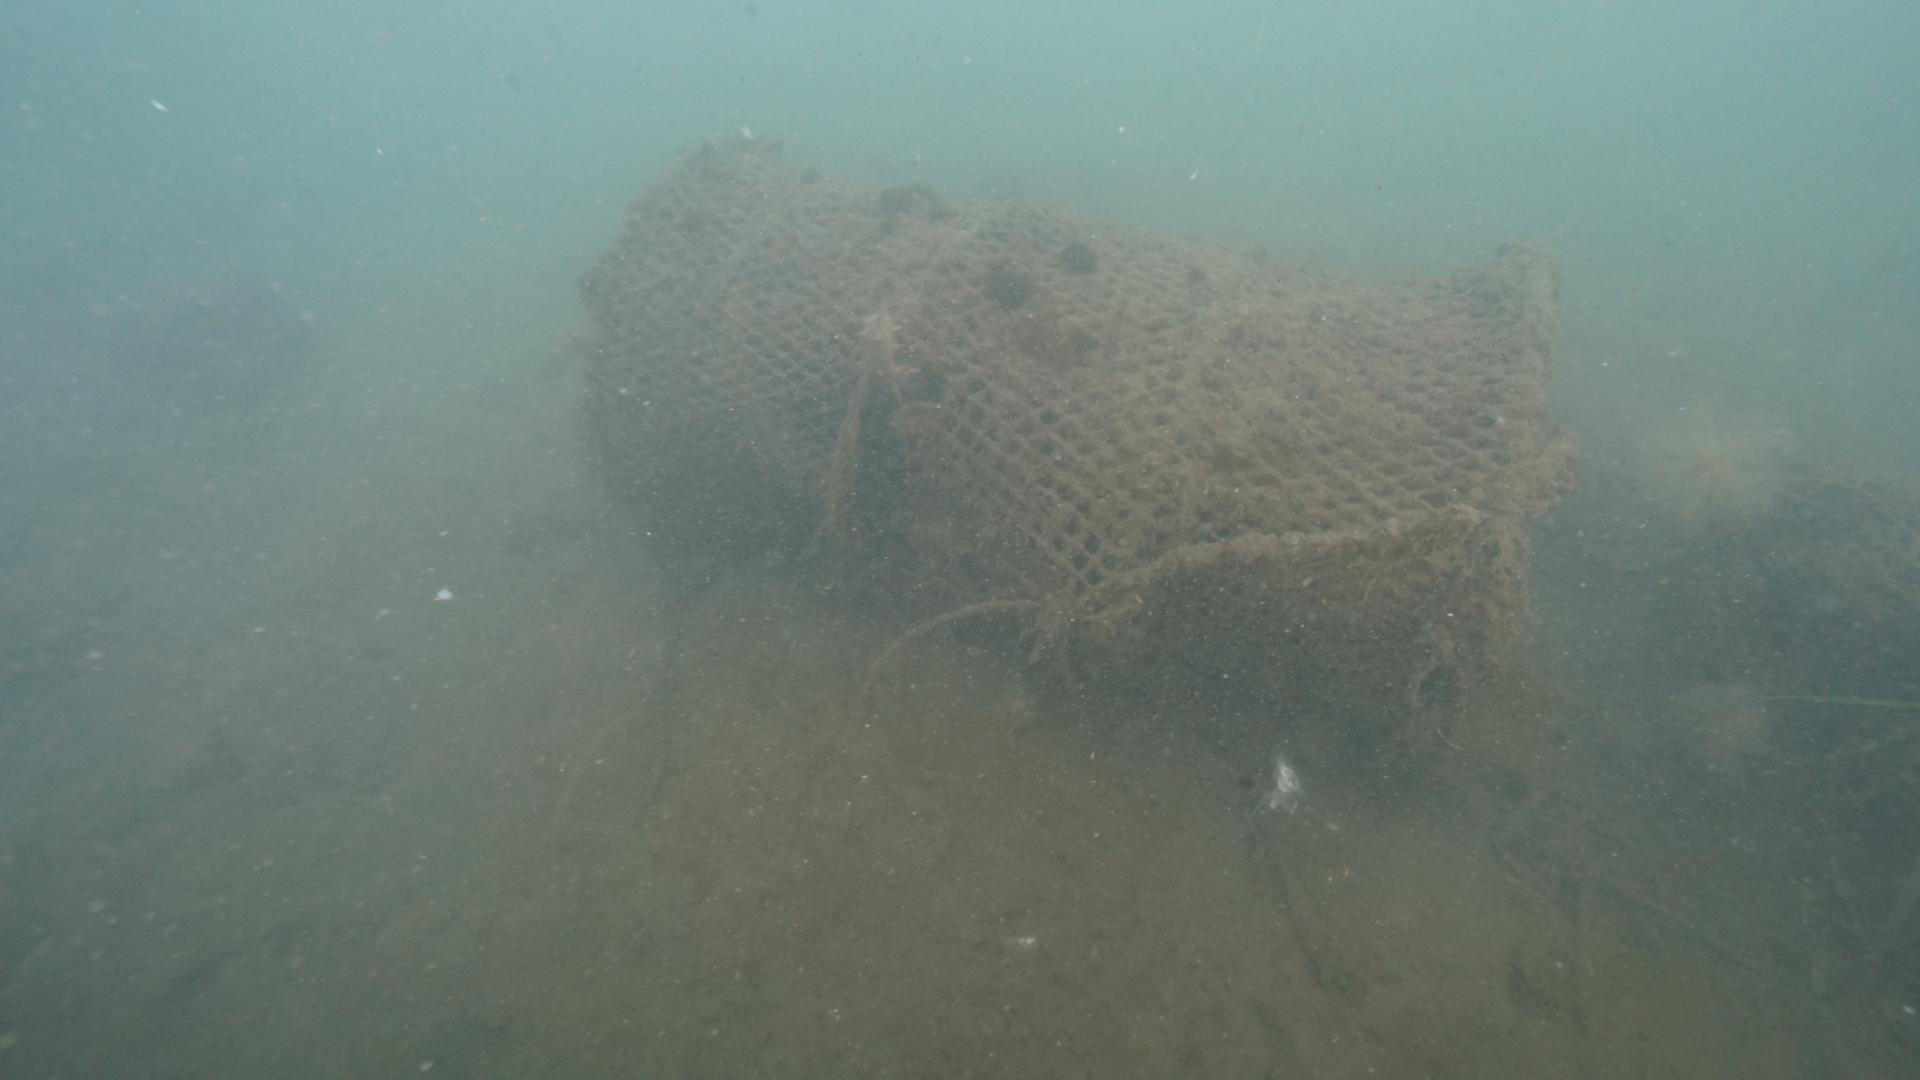spring fish trap: (571, 124, 1563, 811)
